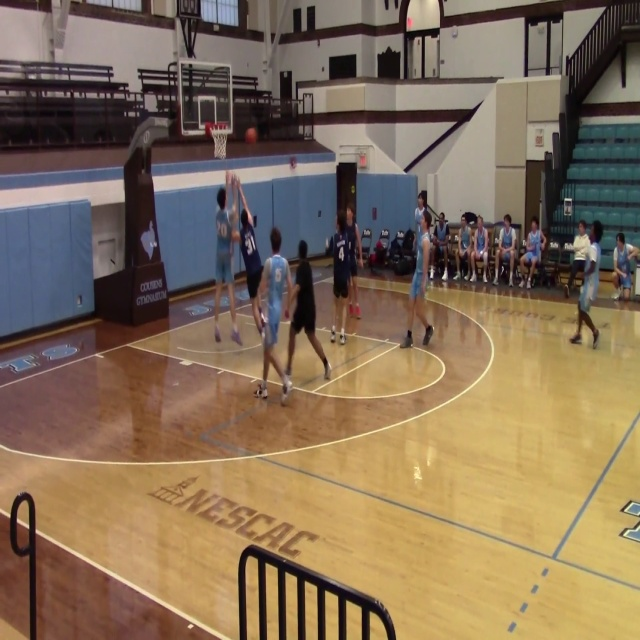Basketball: (244, 127, 257, 144), (230, 230, 240, 243), (289, 156, 297, 169)
